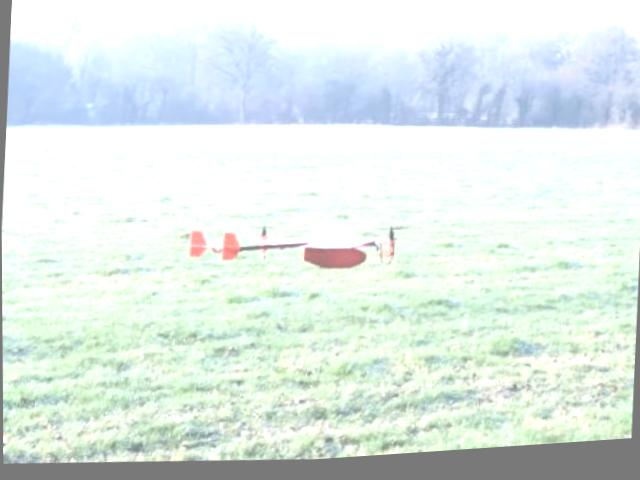uav: (182, 217, 401, 278)
